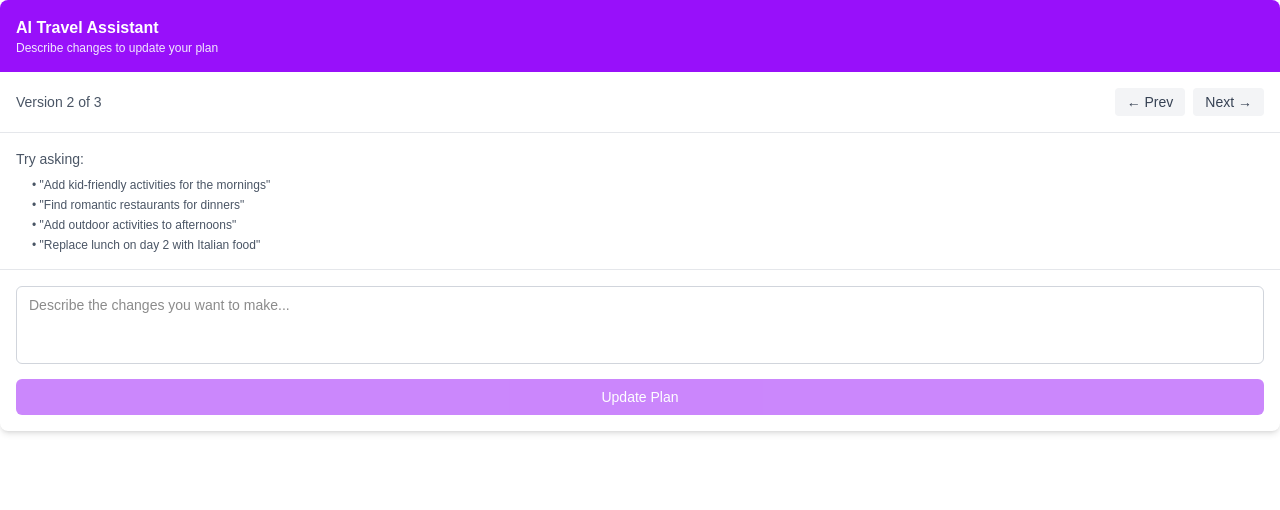
it: PlanModifier › disables submit button and navigation during loading
Type "Add activities" into the text box with placeholder "Describe the changes you want to make...". click: (640, 325)
box: [16,286,1264,364]
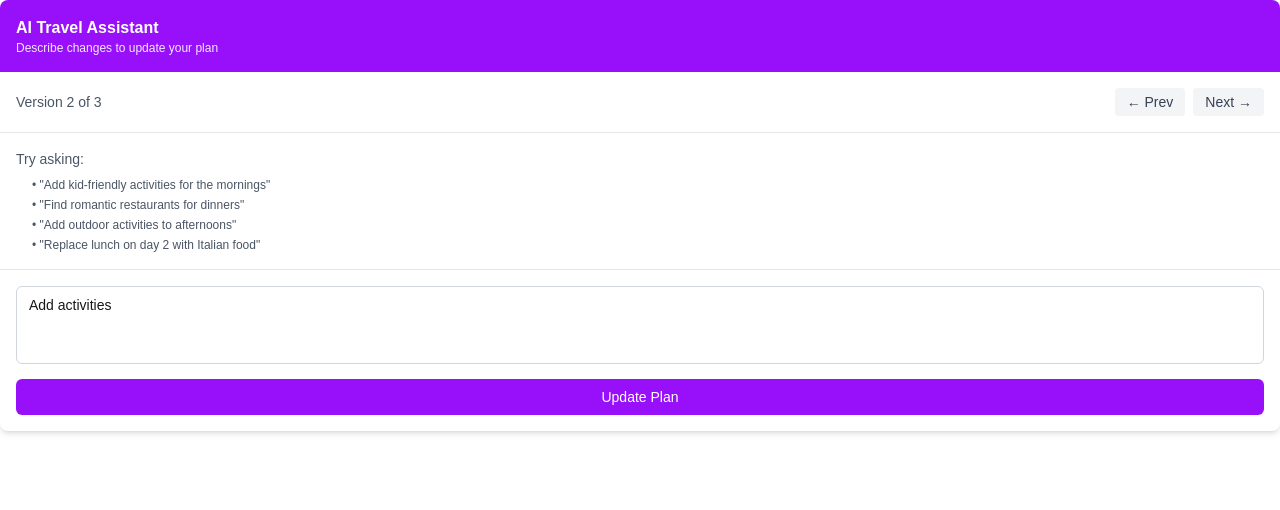
Click the button "Update Plan". click: (640, 397)
box: [16,379,1264,415]
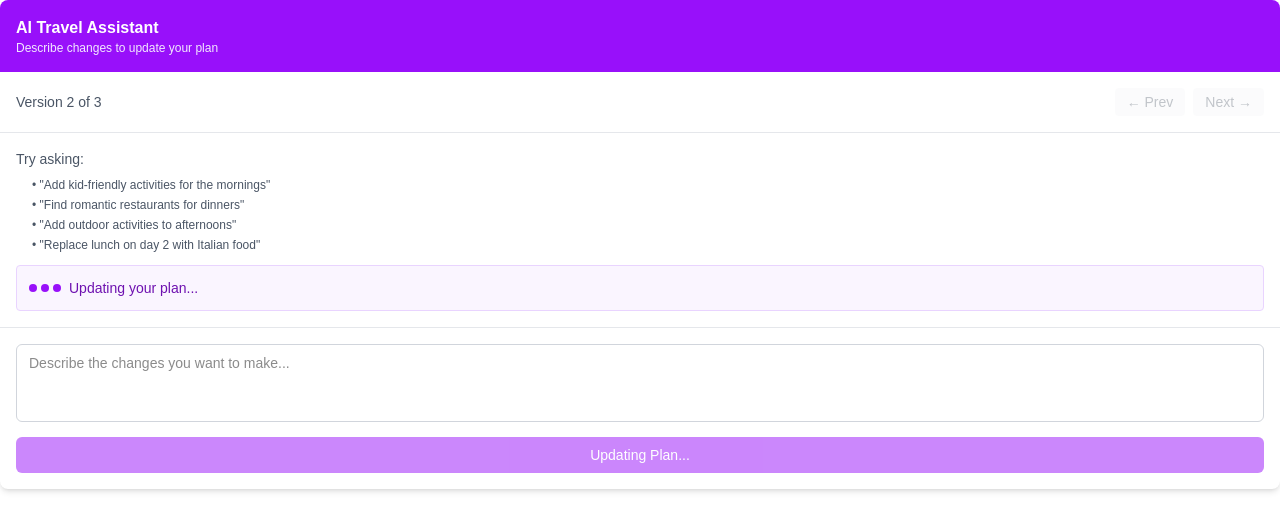
Check: the button titled "Previous version" is disabled, box [1115,88,1185,116]
Check: the button titled "Next version" is disabled, box [1193,88,1264,116]
Check: the button "Update Plan" is disabled, box [16,437,1264,473]
